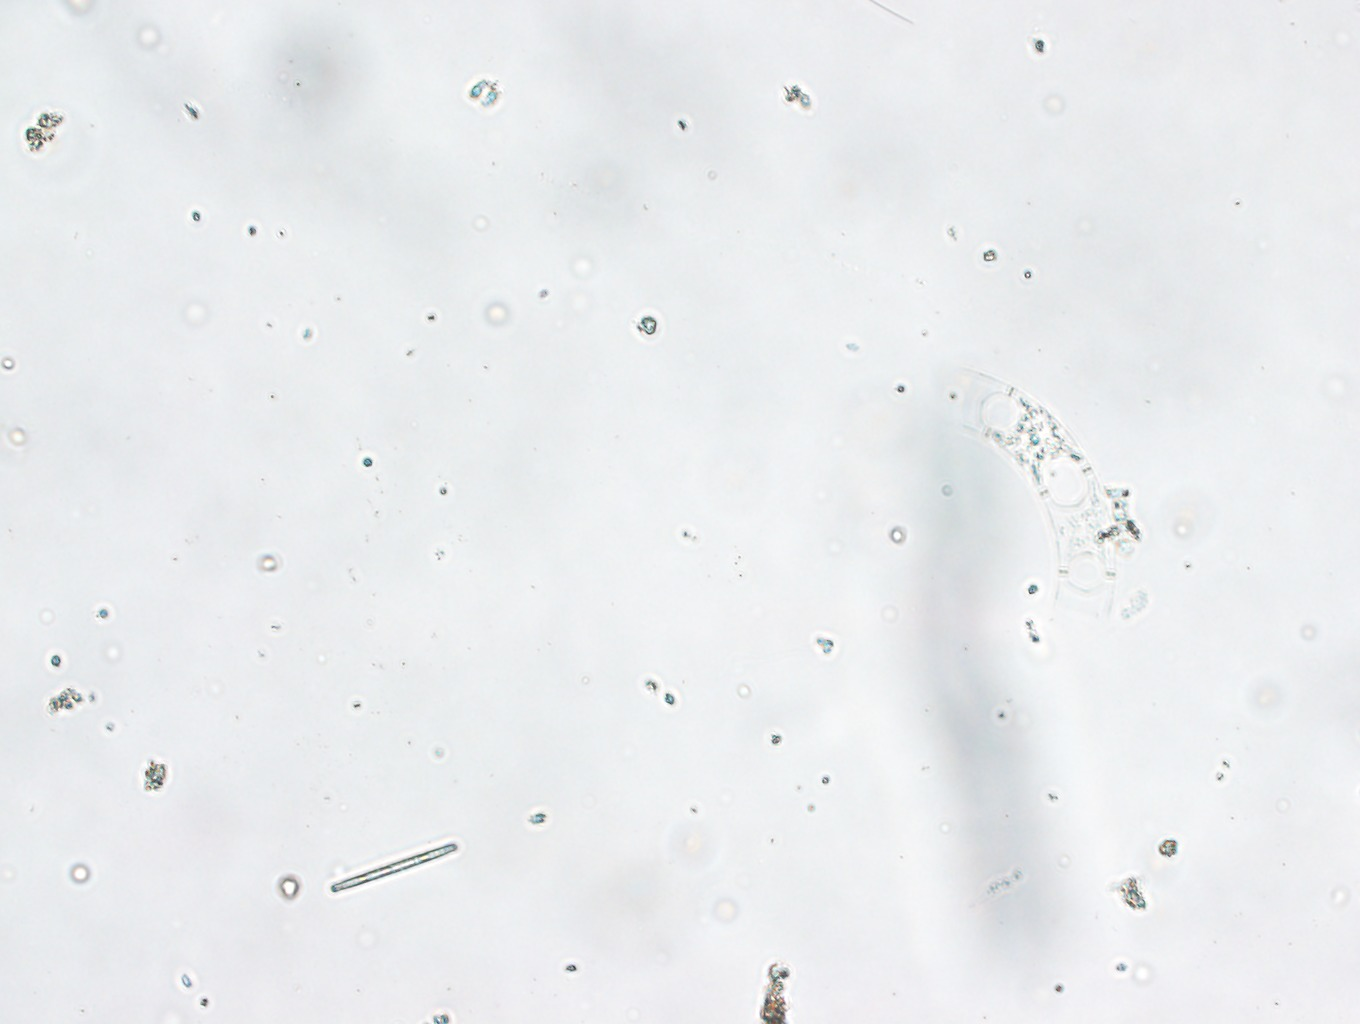eucampia: (913, 349, 1170, 657)
